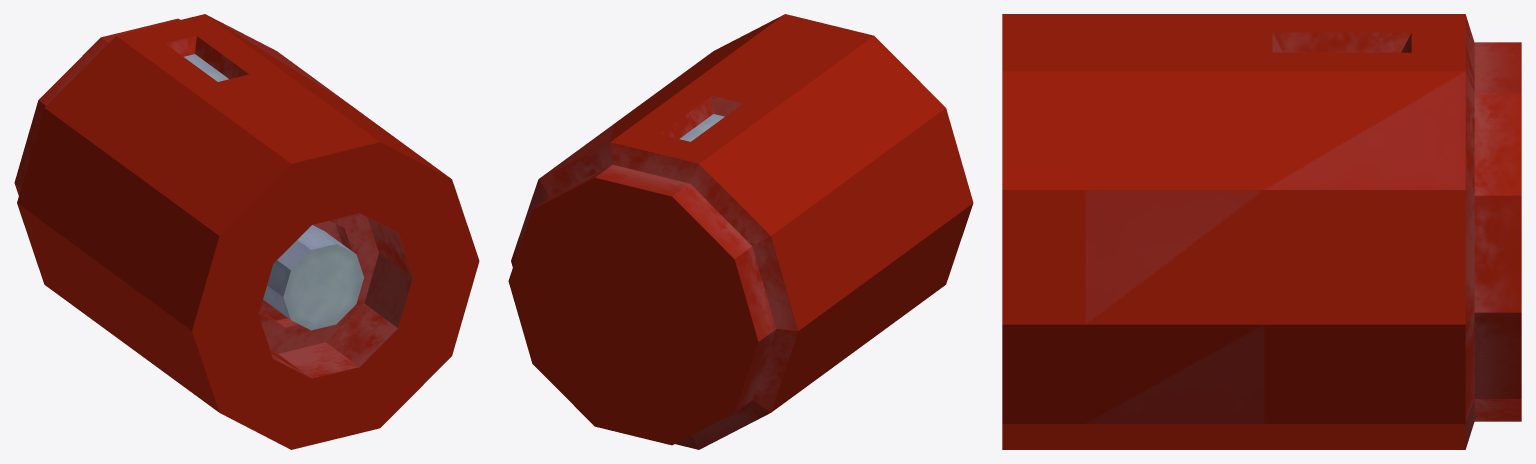
File: module-timeline-02.glb
The picture shows the model from 3 angles, left to right: view 1: azimuth 30°, elevation 25°; view 2: azimuth 150°, elevation 25°; view 3: azimuth 270°, elevation 25°; orthographic projection. The views are drawn at different scales.
Parts seen in each view (by area): view 1: Mesh_0; view 2: Mesh_0; view 3: Mesh_0.
Boxes of the visible parts, x1,y1,x2,y2 form: Mesh_0: [14, 14, 479, 449]; Mesh_0: [508, 14, 973, 449]; Mesh_0: [1002, 14, 1521, 449].
Bounding box in the file's own units: 0.42 × 0.3994 × 0.4966.
Materials: 1 (1 with a texture image).
